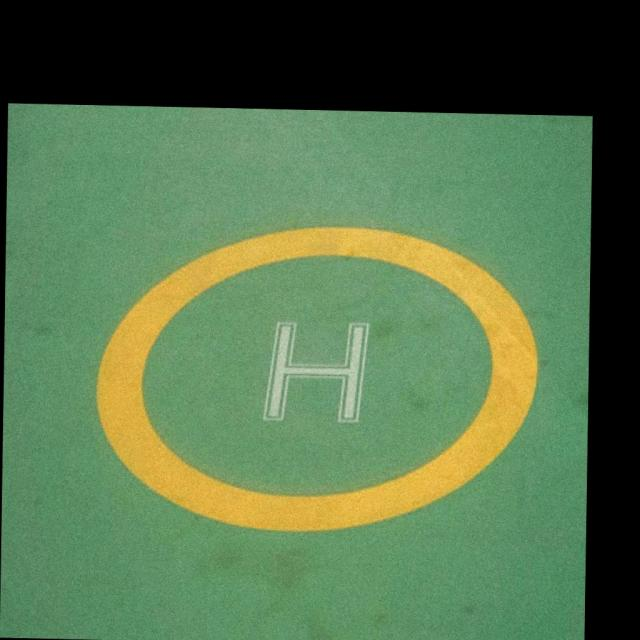helipad: (90, 218, 546, 540)
